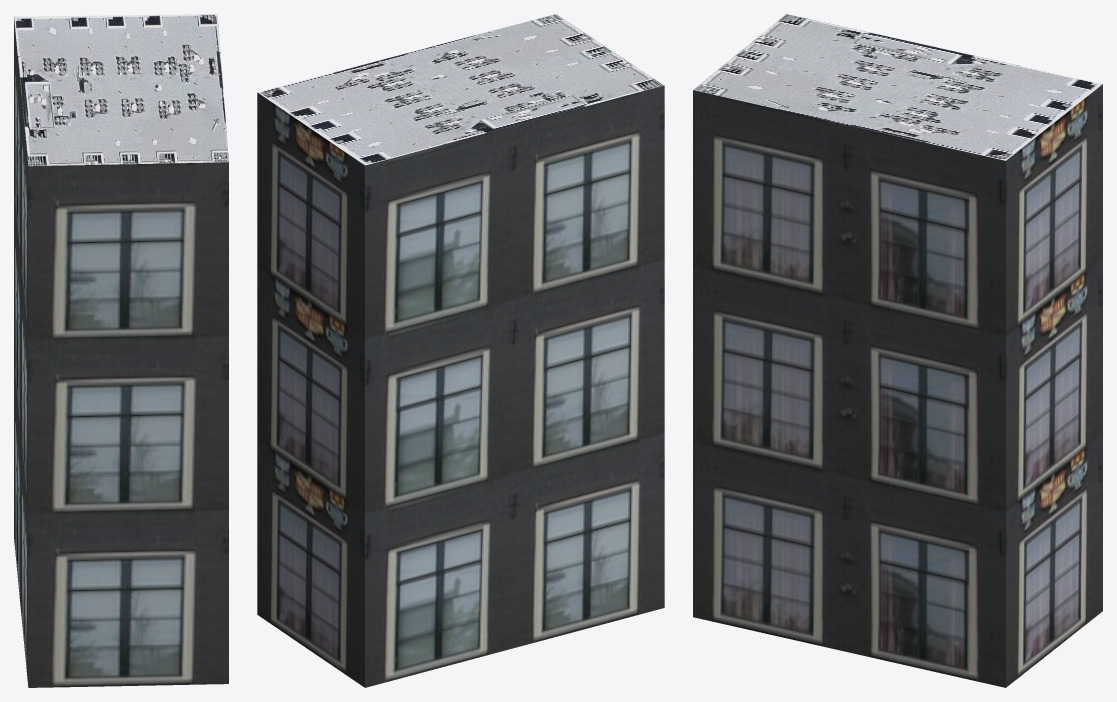
File: ResTex__4037.fbx
3 renders of one model, left to right at view 1: azimuth 30°, elevation 25°; view 2: azimuth 150°, elevation 25°; view 3: azimuth 270°, elevation 25°, orthographic.
Parts seen in each view (by area): view 1: CityEngineMaterial_22_m, CityEngineMaterial_4_m; view 2: CityEngineMaterial_22_m, CityEngineMaterial_4_m; view 3: CityEngineMaterial_22_m, CityEngineMaterial_4_m.
Part boxes in pixels (x1,y1,x2,y2): CityEngineMaterial_22_m: (14, 18, 228, 687); CityEngineMaterial_4_m: (14, 14, 228, 166); CityEngineMaterial_22_m: (257, 85, 664, 687); CityEngineMaterial_4_m: (258, 14, 664, 165); CityEngineMaterial_22_m: (693, 84, 1102, 687); CityEngineMaterial_4_m: (693, 14, 1102, 160).
Bounding box in the file's own units: 5.38 × 9 × 6.34.
2 materials, 2 textured.
